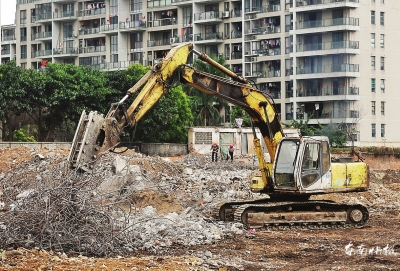excavator: (78, 40, 375, 231)
